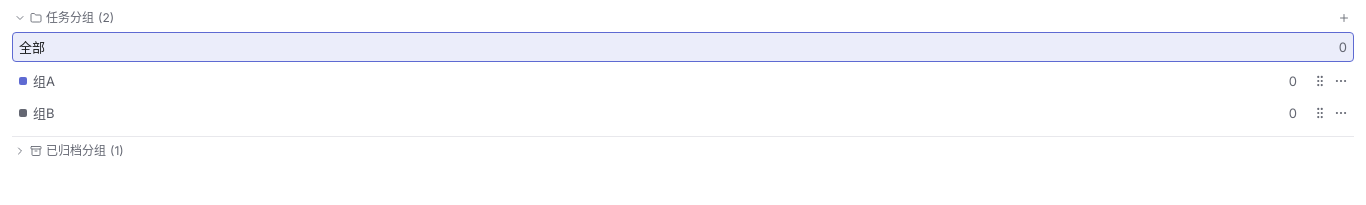
it: GroupManageList › 风琴化：任务分组分区（默认展开、与已归档分区非互斥） › 两分区非互斥：任务分组保持展开的同时已归档分组也可展开
Check: the list item with aria-label "分组 组A" is shown, box x1=12 y1=66 x2=1354 y2=96
Click the button labelled "已归档分组 (1)". click: (76, 150)
box: x1=12 y1=141 x2=1354 y2=161
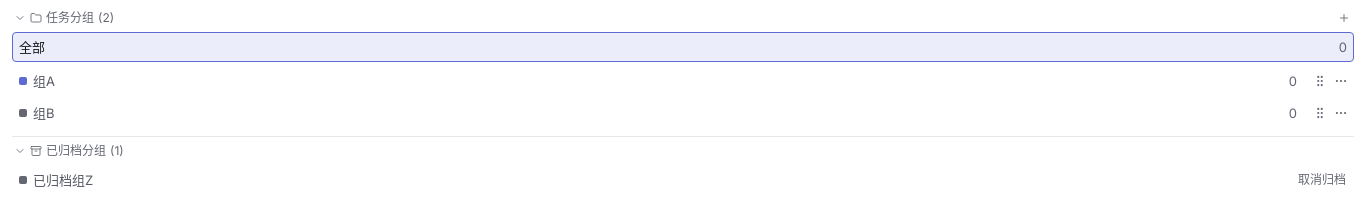
Check: the button with aria-label "筛选全部分组" is shown, box x1=12 y1=32 x2=1354 y2=62
Check: the button labelled "已归档分组 (1)" is expanded, box x1=12 y1=141 x2=1354 y2=161
Check: the text "已归档组Z" is shown, box x1=33 y1=172 x2=93 y2=188
